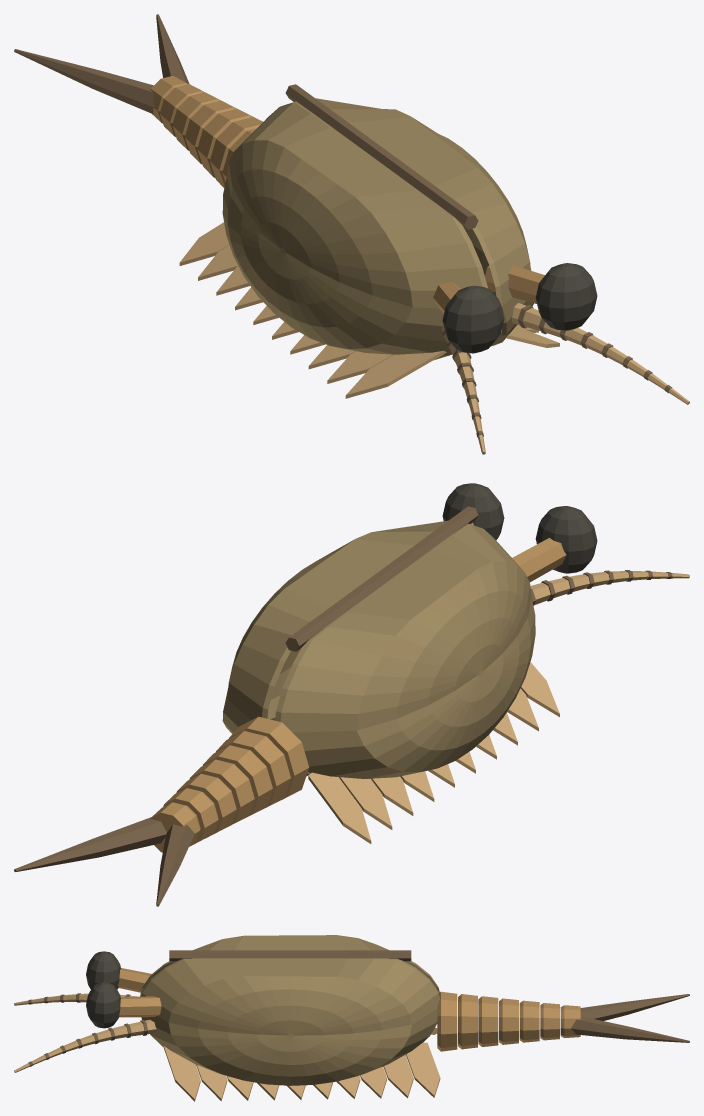
3 renders of one model, top to bottom at view 1: azimuth 30°, elevation 25°; view 2: azimuth 150°, elevation 25°; view 3: azimuth 270°, elevation 25°, orthographic. The views are drawn at different scales.
Visible parts, largest first — view 1: left_suboval_carapace_valve, right_suboval_carapace_valve, ten_pairs_flat_swimming_flaps, two_large_oval_eyes, seven_exposed_abdominal_segments, two_tapered_unsegmented_tail_rami, straight_dorsal_hinge, two_stout_segmented_antennae, two_forward_eye_stalks, antennal_joint_collars; view 2: left_suboval_carapace_valve, right_suboval_carapace_valve, seven_exposed_abdominal_segments, ten_pairs_flat_swimming_flaps, two_large_oval_eyes, two_tapered_unsegmented_tail_rami, straight_dorsal_hinge, two_stout_segmented_antennae, two_forward_eye_stalks; view 3: right_suboval_carapace_valve, seven_exposed_abdominal_segments, ten_pairs_flat_swimming_flaps, left_suboval_carapace_valve, two_tapered_unsegmented_tail_rami, two_large_oval_eyes, straight_dorsal_hinge, two_stout_segmented_antennae, two_forward_eye_stalks, antennal_joint_collars.
Boxes of the visible parts, <box> form: left_suboval_carapace_valve: <box>222,101,487,360</box>; right_suboval_carapace_valve: <box>316,98,533,346</box>; ten_pairs_flat_swimming_flaps: <box>179,222,559,398</box>; two_large_oval_eyes: <box>442,263,597,353</box>; seven_exposed_abdominal_segments: <box>150,76,263,188</box>; two_tapered_unsegmented_tail_rami: <box>14,14,189,113</box>; straight_dorsal_hinge: <box>285,84,478,229</box>; two_stout_segmented_antennae: <box>441,303,689,454</box>; two_forward_eye_stalks: <box>433,265,544,313</box>; antennal_joint_collars: <box>442,305,672,437</box>; left_suboval_carapace_valve: <box>275,523,535,778</box>; right_suboval_carapace_valve: <box>222,520,447,733</box>; seven_exposed_abdominal_segments: <box>150,716,309,852</box>; ten_pairs_flat_swimming_flaps: <box>308,662,559,843</box>; two_large_oval_eyes: <box>442,483,597,573</box>; two_tapered_unsegmented_tail_rami: <box>14,817,194,906</box>; straight_dorsal_hinge: <box>285,506,478,651</box>; two_stout_segmented_antennae: <box>530,571,689,605</box>; two_forward_eye_stalks: <box>470,522,566,582</box>; right_suboval_carapace_valve: <box>141,958,439,1085</box>; seven_exposed_abdominal_segments: <box>437,991,580,1051</box>; ten_pairs_flat_swimming_flaps: <box>163,1027,440,1101</box>; left_suboval_carapace_valve: <box>140,935,439,996</box>; two_tapered_unsegmented_tail_rami: <box>571,994,689,1042</box>; two_large_oval_eyes: <box>86,951,120,1028</box>; straight_dorsal_hinge: <box>169,950,411,961</box>; two_stout_segmented_antennae: <box>14,993,156,1072</box>; two_forward_eye_stalks: <box>118,968,161,1017</box>; antennal_joint_collars: <box>28,993,147,1066</box>.
Size of the model in its own units: 0.0138 by 0.0107 by 0.0559.
